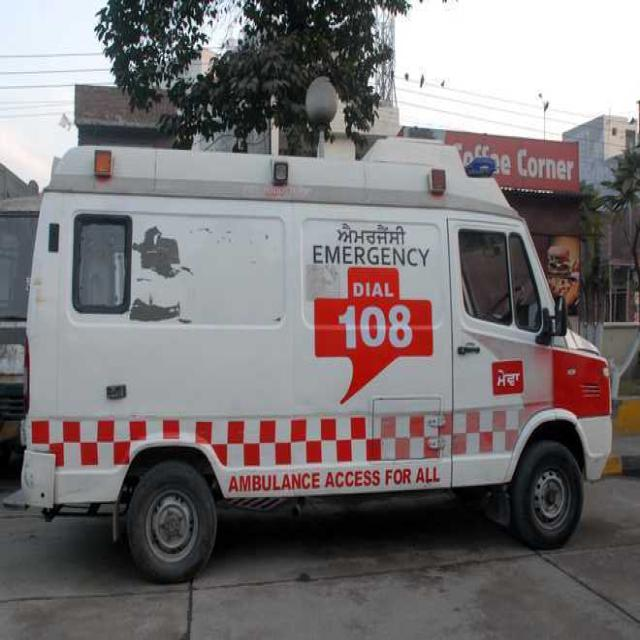emergency: (21, 140, 609, 582)
